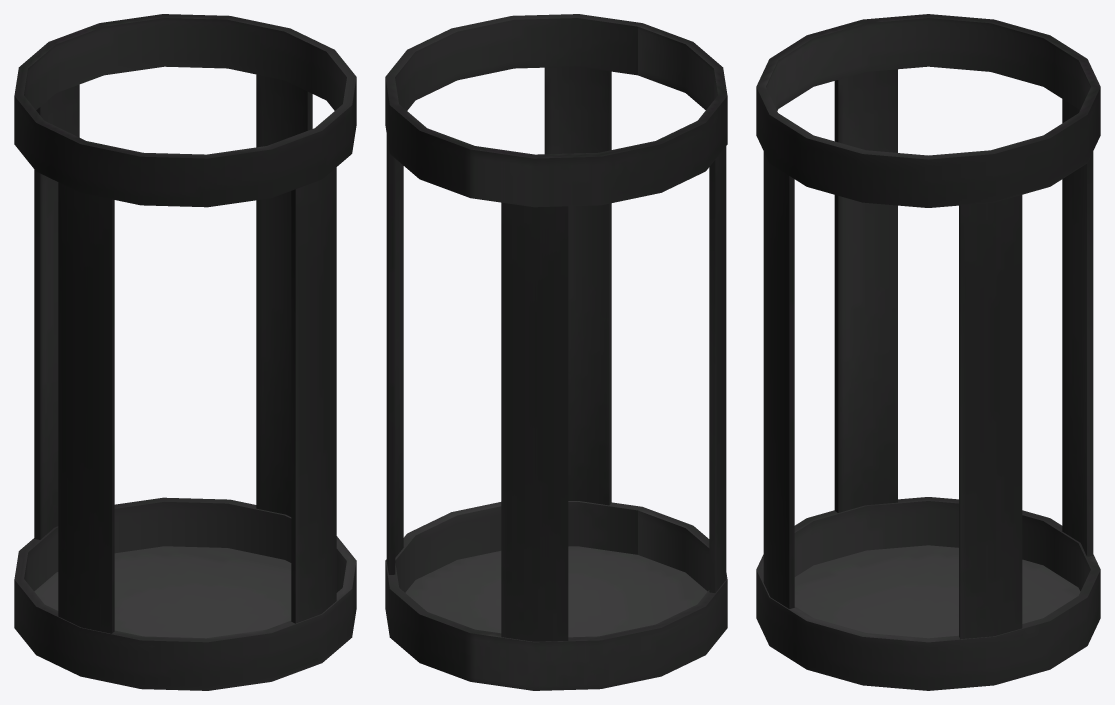
Rendered from FBX_GlassfulExtinguisher.fbx.
3 views of the same model, side by side, from view 1: azimuth 30°, elevation 25°; view 2: azimuth 150°, elevation 25°; view 3: azimuth 270°, elevation 25° (orthographic).
Visible parts, largest first — view 1: SM_GlassfulExtinguisher; view 2: SM_GlassfulExtinguisher; view 3: SM_GlassfulExtinguisher.
Part boxes in pixels (<box>): SM_GlassfulExtinguisher: <box>14,14,356,690</box>; SM_GlassfulExtinguisher: <box>385,14,727,690</box>; SM_GlassfulExtinguisher: <box>756,14,1100,690</box>.
Size of the model in its own units: 0.2157 by 0.3671 by 0.2157.
